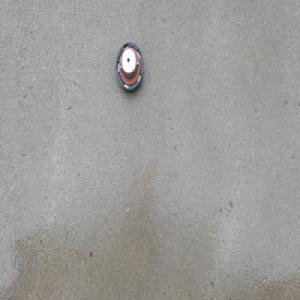FuelCap: (114, 40, 143, 92)
